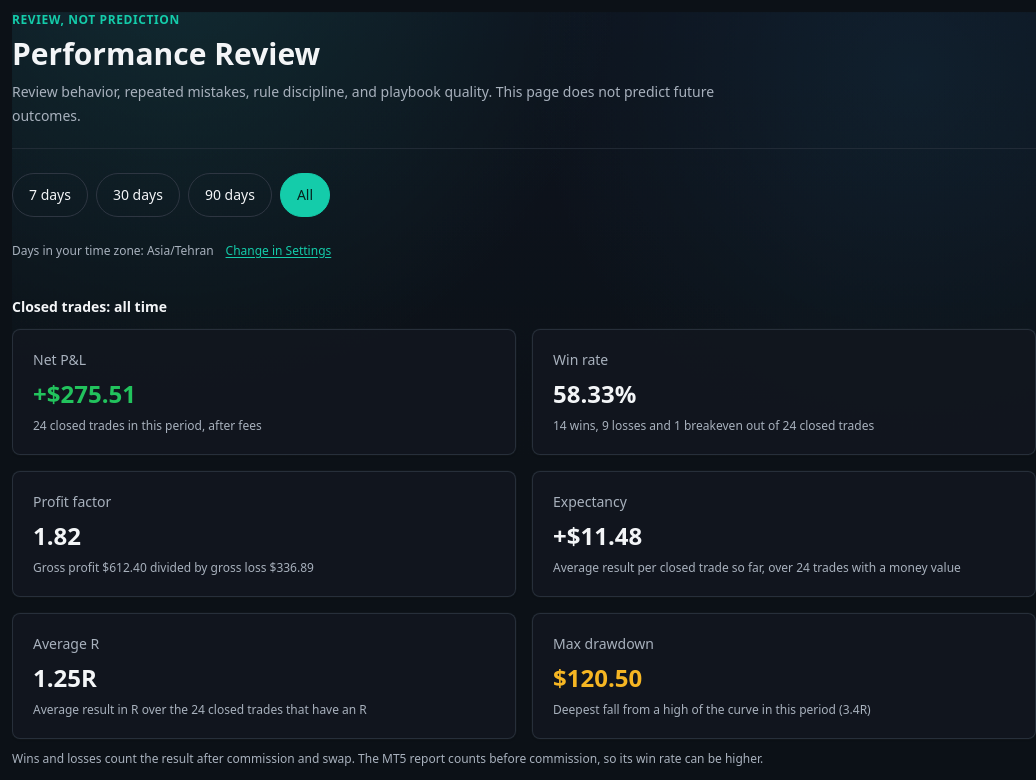
Scenario: PerformanceScreen data and period › still says how many trades are open when the period has no closed trade
Check: the button "All" is shown, box [280,173,330,217]
Step 1. Click the button "7 days" → (50, 195), box [12,173,88,217]
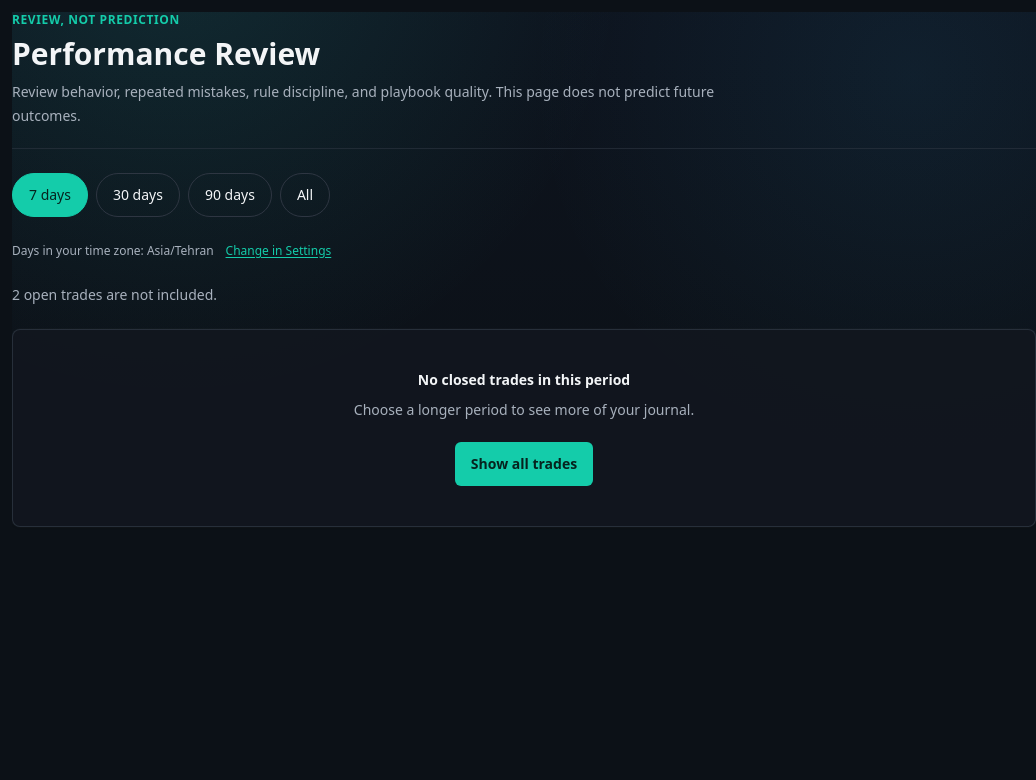
Check: the list item "2 open trades are not included." is shown, box [12,285,217,304]
